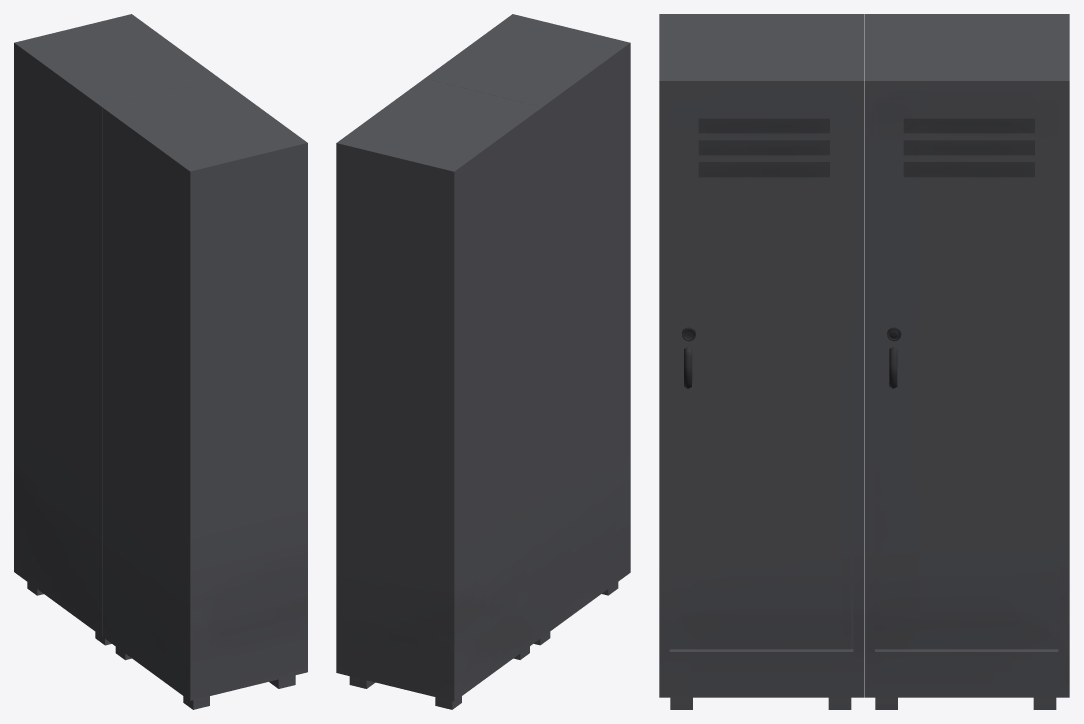
Rendered from lockermodel.obj.
3 views of the same model, side by side, from view 1: azimuth 30°, elevation 25°; view 2: azimuth 150°, elevation 25°; view 3: azimuth 270°, elevation 25° (orthographic). The views are drawn at different scales.
Parts seen in each view (by area): view 1: locker; view 2: locker; view 3: locker.
Part boxes in pixels (box(x1,y1,x2,y2)): locker: box(14, 14, 307, 709); locker: box(336, 14, 630, 709); locker: box(659, 14, 1069, 709).
Bounding box in the file's own units: 0.4574 × 1.93 × 1.14.
Materials: 1 (1 with a texture image).
